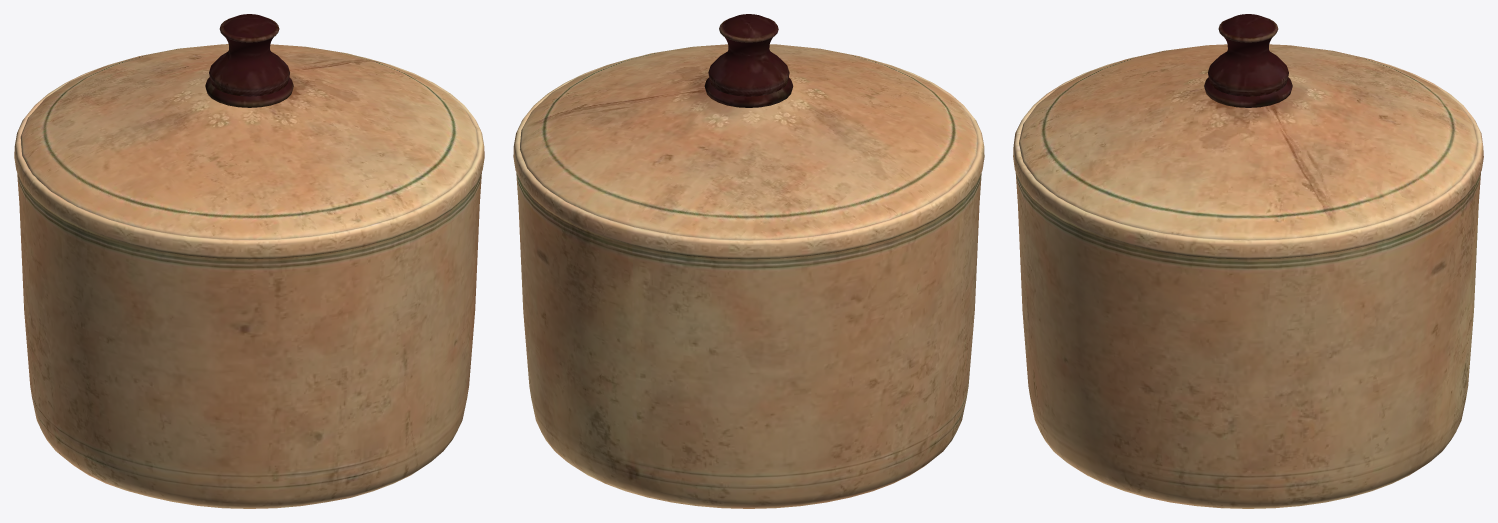
Rendered from ph_brass_pot_01_hi.glb.
3 views of the same model, side by side, from view 1: azimuth 30°, elevation 25°; view 2: azimuth 150°, elevation 25°; view 3: azimuth 270°, elevation 25° (orthographic).
Parts seen in each view (by area): view 1: brass_pot_01; view 2: brass_pot_01; view 3: brass_pot_01.
Boxes of the visible parts, x1,y1,x2,y2 form: brass_pot_01: (14,14,484,508); brass_pot_01: (513,14,984,508); brass_pot_01: (1013,14,1483,508).
Size of the model in its own units: 0.3019 by 0.2909 by 0.3017.
Materials: 1 (1 with a texture image).
